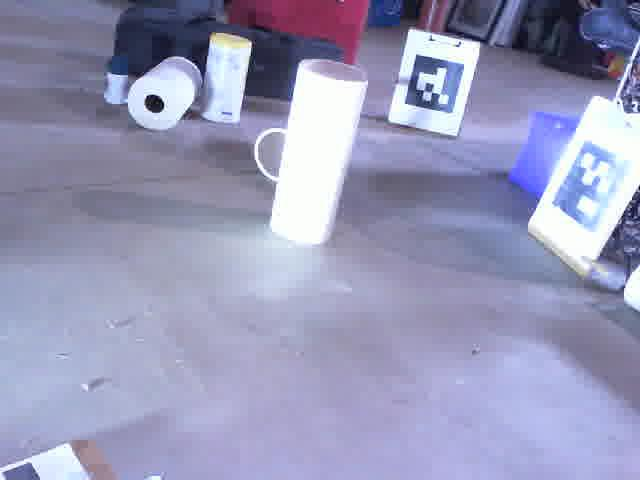coral: (271, 45, 370, 250), (253, 116, 293, 193)
